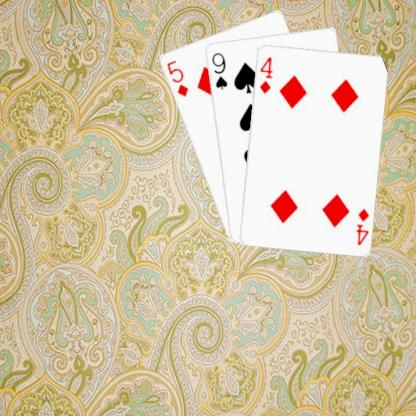4D: (256, 53, 274, 95), (353, 205, 370, 246)
5D: (164, 58, 189, 98)
9S: (208, 49, 228, 91)
